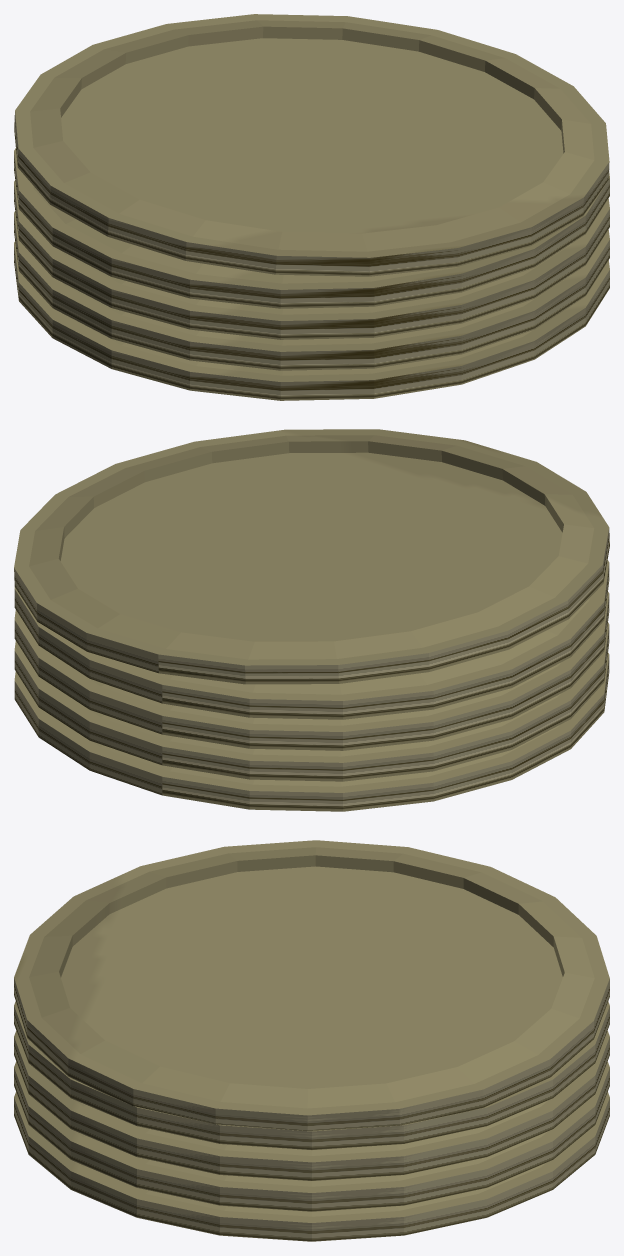
Rendered from SM_tkcontainer4.fbx.
The picture shows the model from 3 angles, top to bottom: view 1: azimuth 30°, elevation 25°; view 2: azimuth 150°, elevation 25°; view 3: azimuth 270°, elevation 25°; orthographic projection.
Visible parts, largest first — view 1: SM_containerlids; view 2: SM_containerlids; view 3: SM_containerlids.
Boxes of the visible parts, left/top/right/bottom form: SM_containerlids: left=14, top=14, right=609, bottom=400; SM_containerlids: left=14, top=429, right=609, bottom=811; SM_containerlids: left=14, top=840, right=609, bottom=1241.
Bounding box in the file's own units: 12.22 × 3.48 × 12.22.
